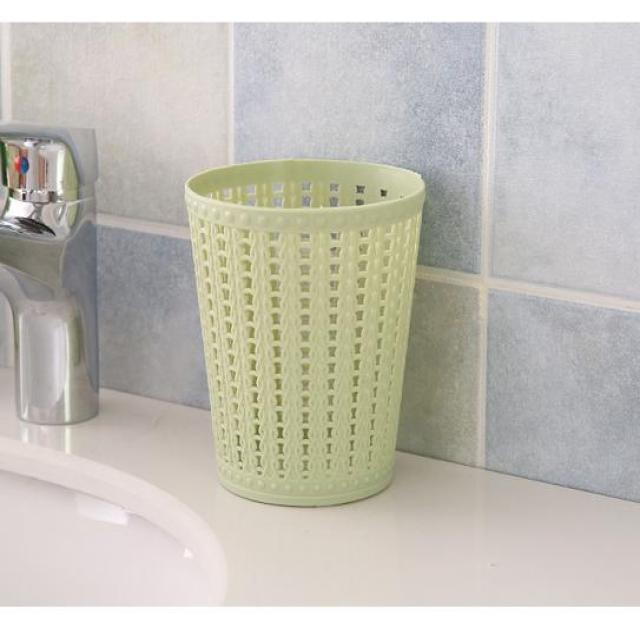dustbin: (182, 154, 433, 516)
